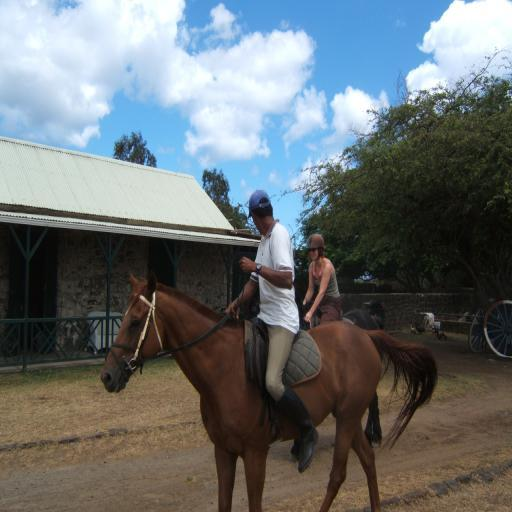Horse: (98, 270, 440, 512), (248, 300, 386, 464)
